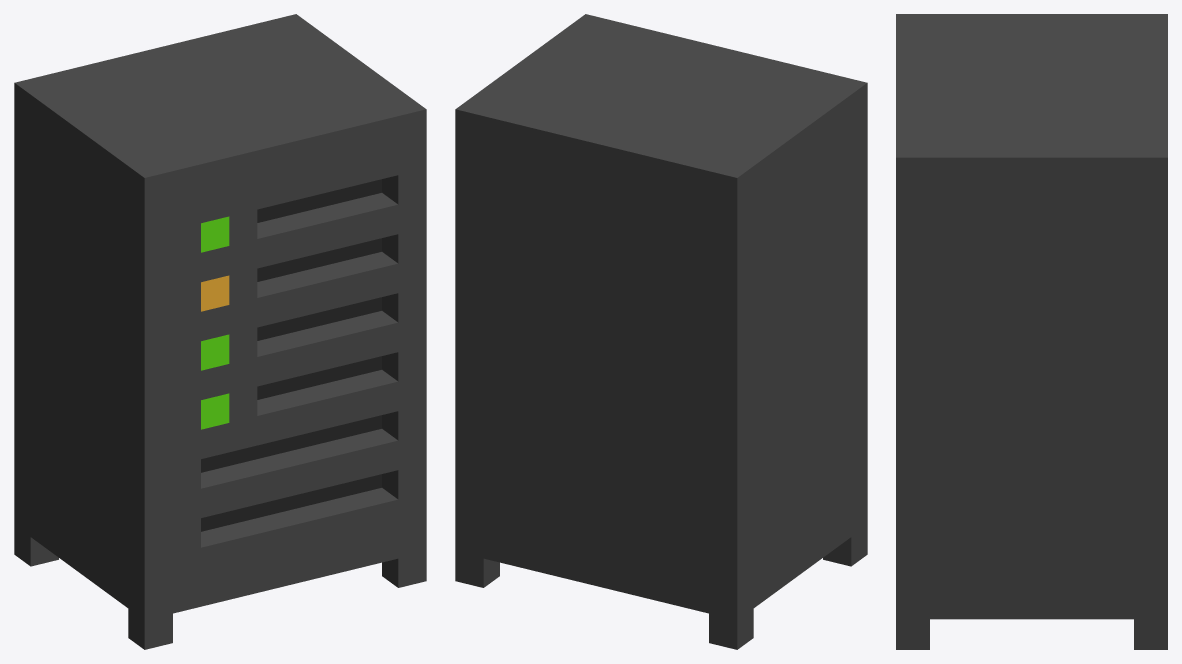
File: server.obj
3 renders of one model, left to right at view 1: azimuth 30°, elevation 25°; view 2: azimuth 150°, elevation 25°; view 3: azimuth 270°, elevation 25°, orthographic. The views are drawn at different scales.
Bounding box in the file's own units: 1 × 1.6 × 0.8.
1 material, 1 textured.
